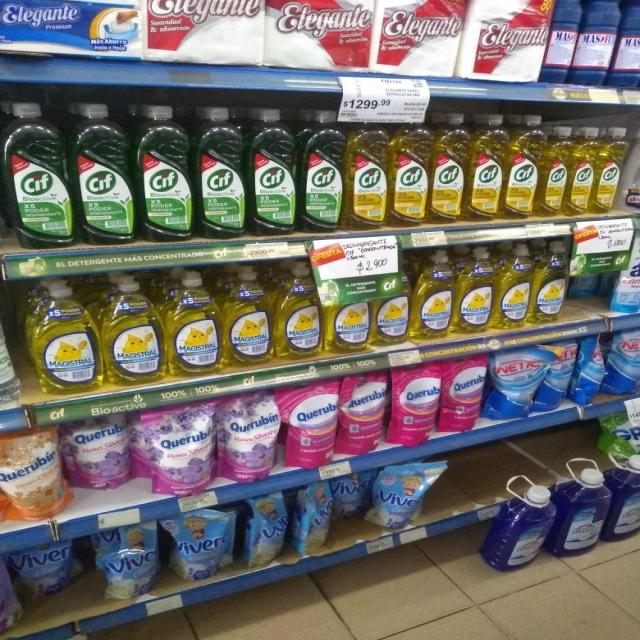cif_conc_bot_amarilla: (346, 115, 388, 231), (389, 115, 429, 228), (431, 113, 466, 225), (468, 114, 504, 222), (506, 114, 539, 220), (540, 124, 569, 217), (595, 126, 623, 214), (569, 126, 594, 215)
cif_conc_botella_verde: (1, 101, 70, 249), (73, 102, 133, 246), (136, 104, 192, 242), (196, 106, 246, 239), (248, 106, 297, 236), (299, 109, 344, 234)
magistral_con_amarillo: (29, 280, 100, 394), (103, 276, 164, 386), (166, 270, 221, 377), (224, 265, 272, 368), (276, 262, 322, 360), (412, 249, 454, 340), (456, 246, 493, 334), (495, 243, 531, 329), (532, 240, 567, 325), (324, 292, 370, 354), (371, 287, 409, 346)
